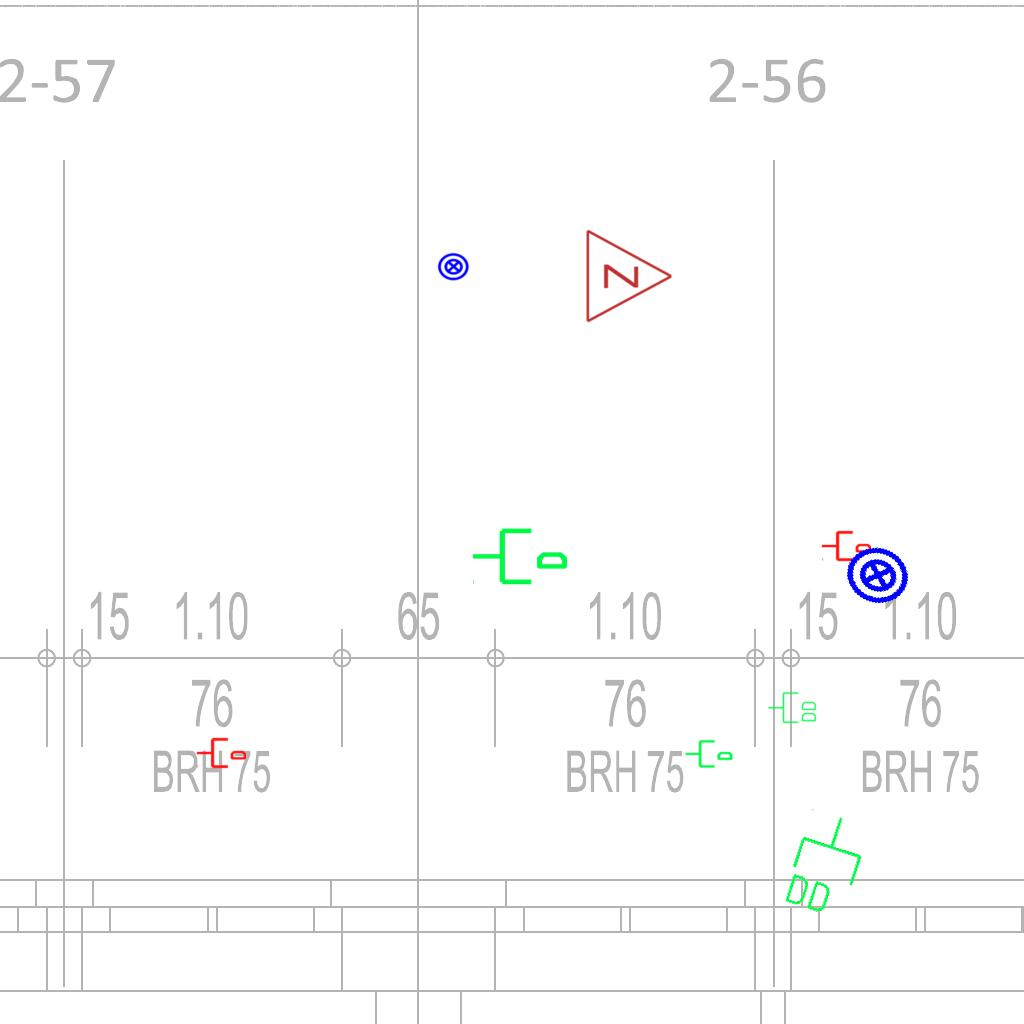Datenanschluss_einfach: (470, 520, 570, 589), (196, 736, 246, 770), (684, 736, 734, 770), (821, 529, 871, 563)
Datenanschluss_zweifach: (776, 804, 875, 925), (767, 691, 818, 725)
Taster_beleuchtet: (836, 533, 920, 617), (437, 250, 470, 283)
Zimmersignalleuchte: (579, 226, 679, 324)
